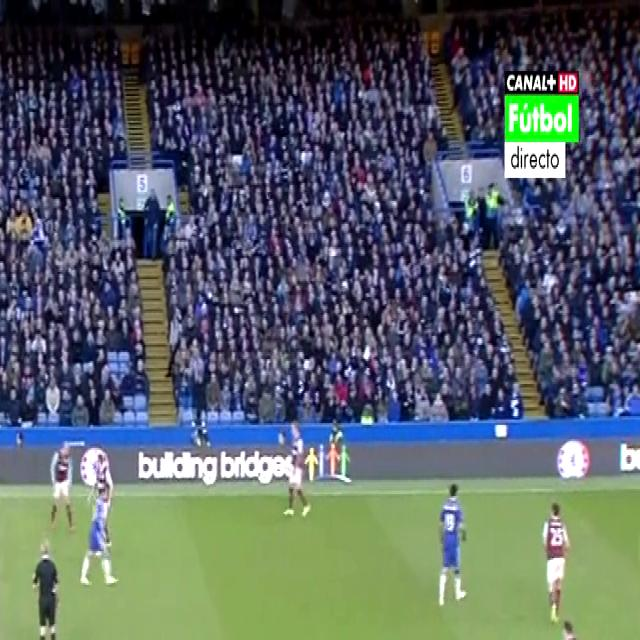referee: (27, 528, 70, 640)
soccer-player: (433, 472, 477, 620), (536, 491, 575, 629), (278, 411, 321, 525), (79, 484, 120, 601), (47, 430, 79, 537), (85, 436, 117, 528), (555, 613, 596, 640)
